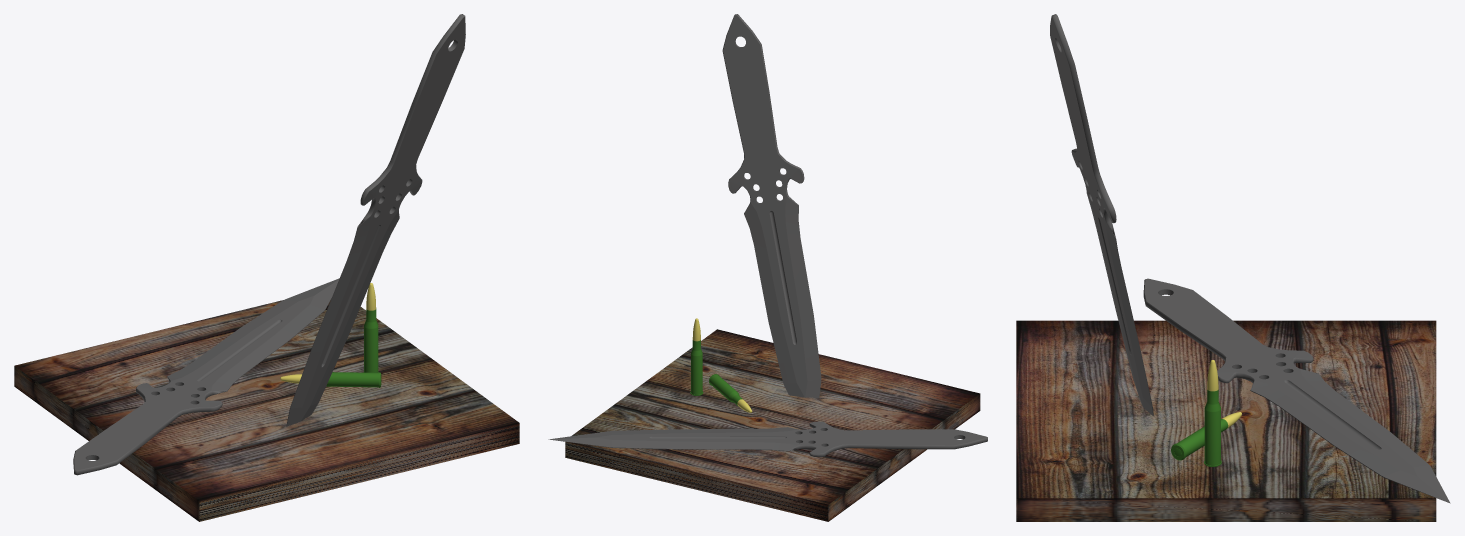
File: chientranh.glb
3 views of the same model, side by side, from view 1: azimuth 30°, elevation 25°; view 2: azimuth 150°, elevation 25°; view 3: azimuth 270°, elevation 25° (orthographic). The views are drawn at different scales.
Visible parts, largest first — view 1: Box006, Box005, Box004, Cylinder005, Cylinder007; view 2: Box006, Box005, Box004, Cylinder005; view 3: Box006, Box004, Box005, Cylinder005, Cylinder007.
Boxes of the visible parts, bbox=[...] form: Box006: bbox=[14, 300, 519, 521]; Box005: bbox=[286, 14, 465, 426]; Box004: bbox=[73, 278, 339, 475]; Cylinder005: bbox=[363, 309, 378, 372]; Cylinder007: bbox=[326, 372, 381, 387]; Box006: bbox=[565, 329, 980, 521]; Box005: bbox=[722, 14, 821, 397]; Box004: bbox=[548, 421, 987, 457]; Cylinder005: bbox=[690, 340, 703, 395]; Box006: bbox=[1016, 320, 1436, 521]; Box004: bbox=[1143, 278, 1450, 503]; Box005: bbox=[1050, 14, 1153, 416]; Cylinder005: bbox=[1204, 389, 1221, 466]; Cylinder007: bbox=[1171, 419, 1228, 460].
Size of the model in its own units: 25.5 by 27.64 by 21.01.
Materials: 4 (1 with a texture image).
